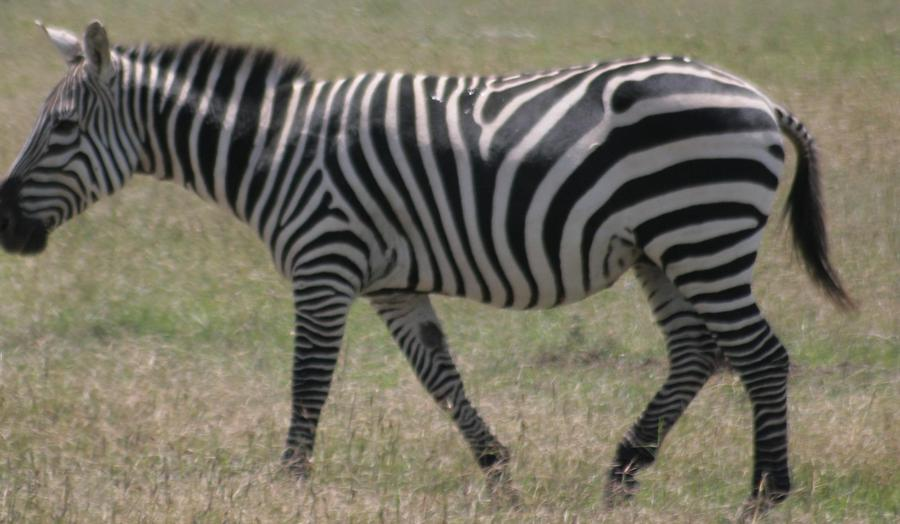zebra_plains: (242, 46, 789, 303)
